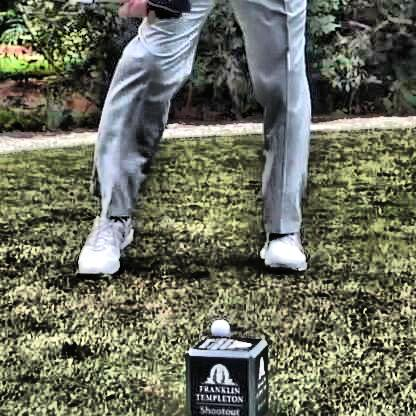golfball: (207, 315, 229, 336)
